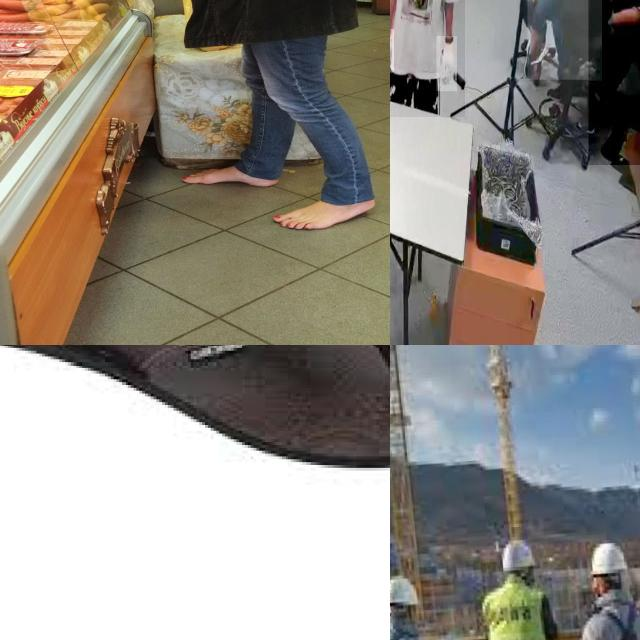Barefoots: (274, 198, 376, 230), (181, 166, 279, 187)
Harness: (594, 601, 640, 640)
Sandals: (0, 345, 390, 533)
hand_glove: (437, 36, 458, 92), (390, 28, 394, 73)
person: (390, 0, 465, 118), (588, 0, 640, 166), (527, 0, 602, 80)
